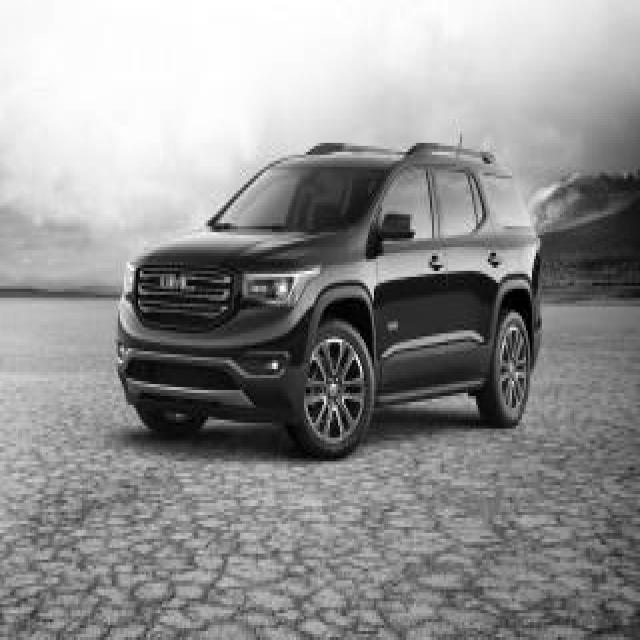Car: (118, 143, 542, 457)
